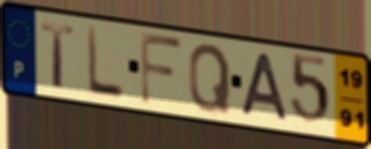5: (289, 52, 333, 133)
A: (239, 50, 291, 123)
F: (138, 29, 185, 109)
L: (85, 23, 126, 102)
Q: (187, 41, 233, 115)
T: (39, 20, 77, 91)
